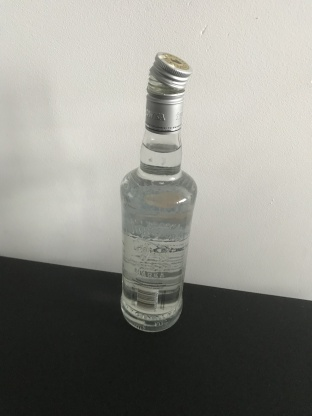nakretka: (144, 48, 191, 135)
